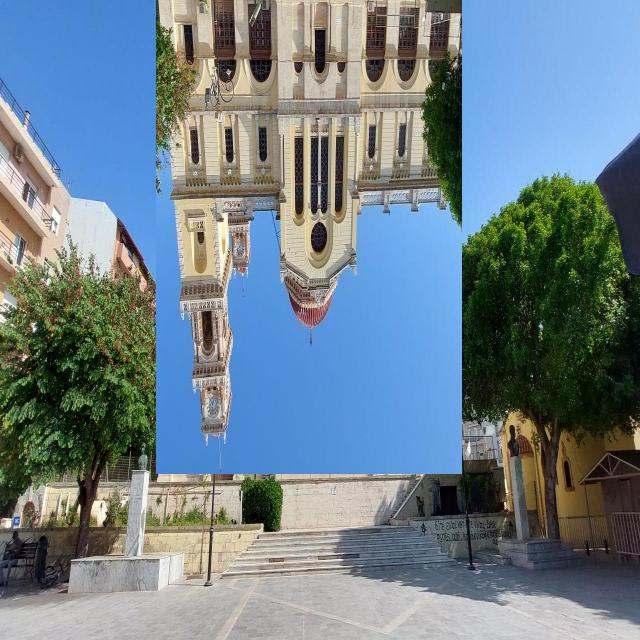Agios Minas: (157, 1, 463, 475)
